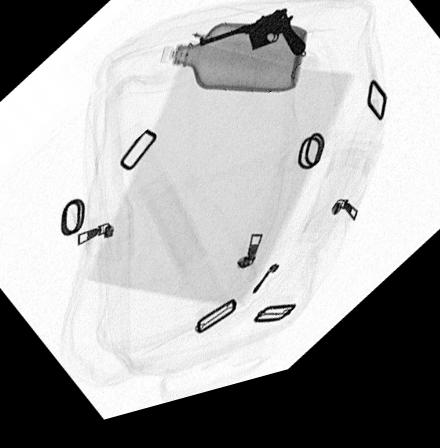Gun: (199, 22, 305, 74)
